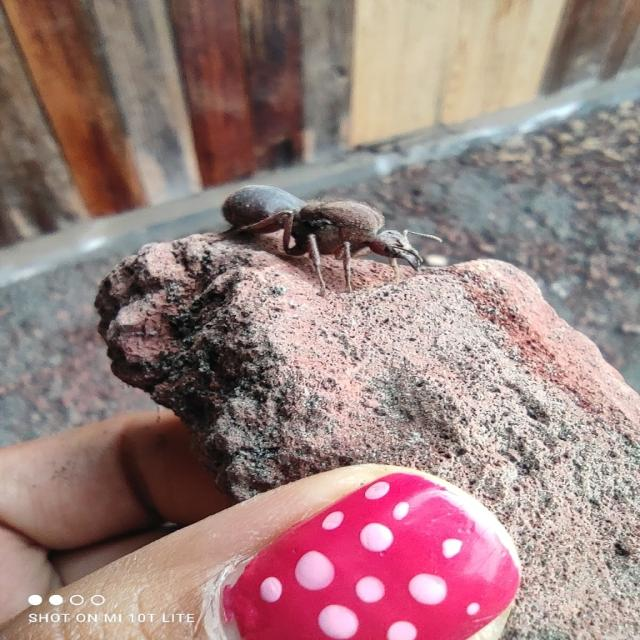Alive-Female-Dealate: (208, 185, 444, 297)
